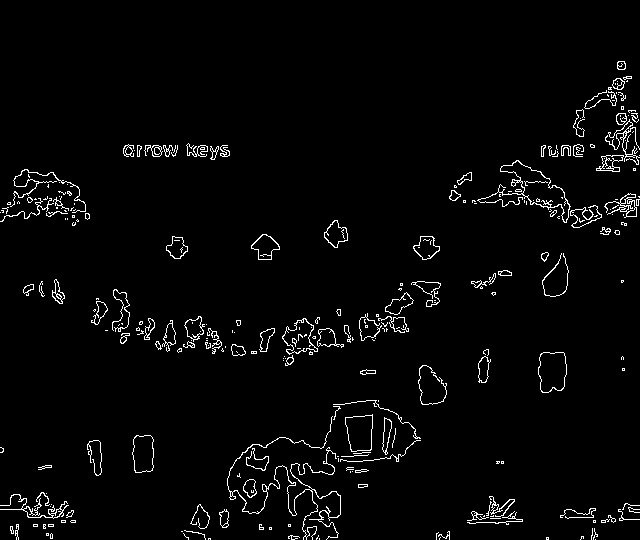down: (159, 229, 200, 269), (409, 231, 445, 266)
left: (314, 215, 361, 255)
up: (248, 230, 287, 269)
